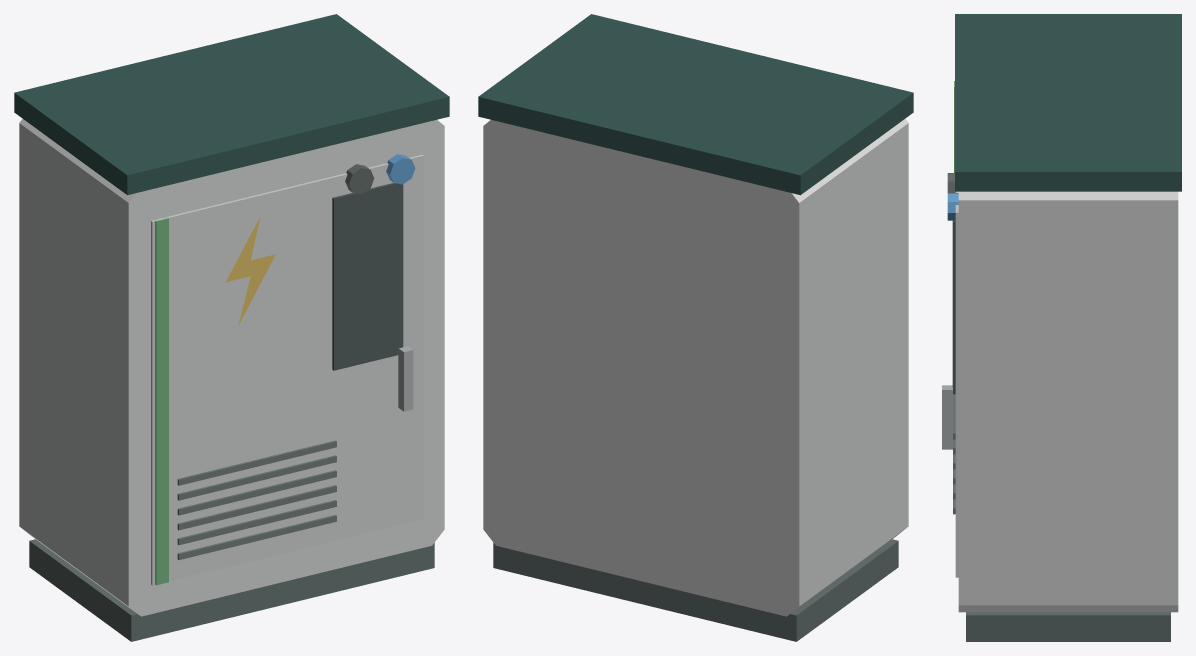
File: battery.glb
3 renders of one model, left to right at view 1: azimuth 30°, elevation 25°; view 2: azimuth 150°, elevation 25°; view 3: azimuth 270°, elevation 25°, orthographic.
Visible parts, largest first — view 1: body; view 2: body; view 3: body.
Part boxes in pixels (<box>): body: <box>14,14,449,641</box>; body: <box>478,14,913,641</box>; body: <box>942,14,1181,641</box>.
Size of the model in its own units: 1.02 by 1.43 by 0.655.
